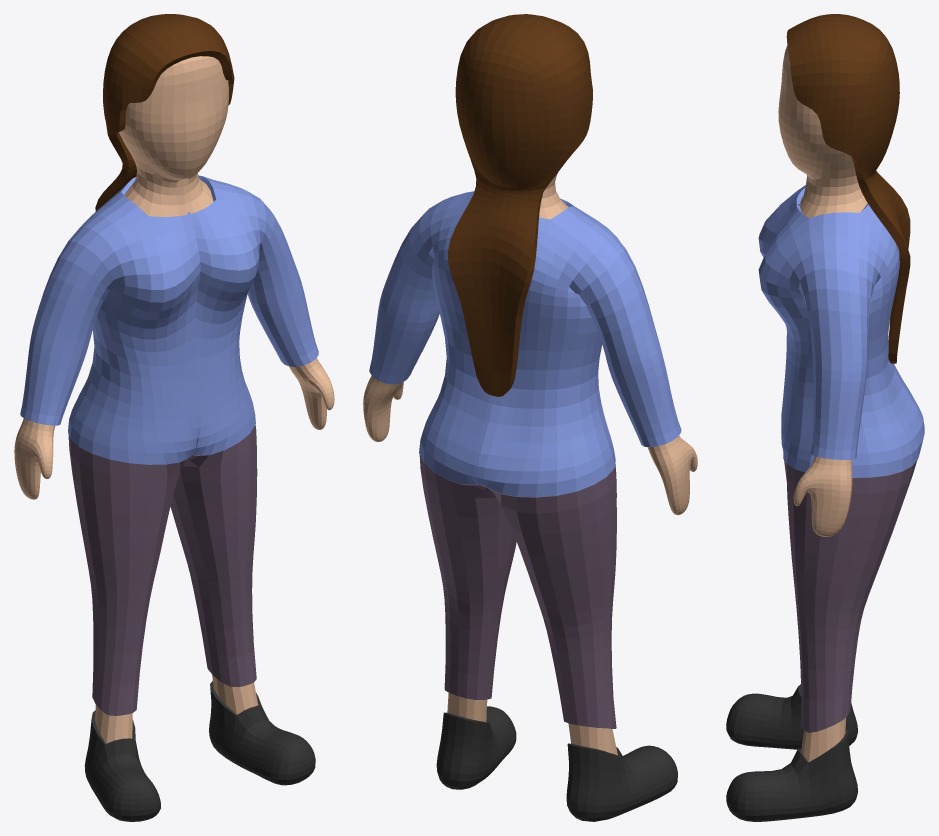
Rendered from Mother.fbx.
3 views of the same model, side by side, from view 1: azimuth 30°, elevation 25°; view 2: azimuth 150°, elevation 25°; view 3: azimuth 270°, elevation 25° (orthographic). The views are drawn at different scales.
Parts seen in each view (by area): view 1: Cube.003, Cube.004, Cube.001, Cube.005, Cube.002; view 2: Cube.003, Cube.002, Cube.004, Cube.005, Cube.001; view 3: Cube.003, Cube.004, Cube.002, Cube.005, Cube.001.
Boxes of the visible parts, x1=… form: Cube.003: x1=20, y1=175, x2=318, y2=464; Cube.004: x1=68, y1=425, x2=257, y2=715; Cube.001: x1=14, y1=56, x2=334, y2=743; Cube.005: x1=84, y1=681, x2=315, y2=821; Cube.002: x1=95, y1=14, x2=234, y2=211; Cube.003: x1=369, y1=191, x2=681, y2=497; Cube.002: x1=447, y1=14, x2=592, y2=396; Cube.004: x1=419, y1=455, x2=616, y2=728; Cube.005: x1=436, y1=706, x2=677, y2=821; Cube.001: x1=363, y1=173, x2=697, y2=755; Cube.003: x1=758, y1=185, x2=924, y2=477; Cube.004: x1=784, y1=460, x2=917, y2=732; Cube.002: x1=786, y1=14, x2=910, y2=363; Cube.005: x1=726, y1=684, x2=857, y2=821; Cube.001: x1=778, y1=45, x2=867, y2=762.
Bounding box in the file's own units: 587 × 1389 × 330.
